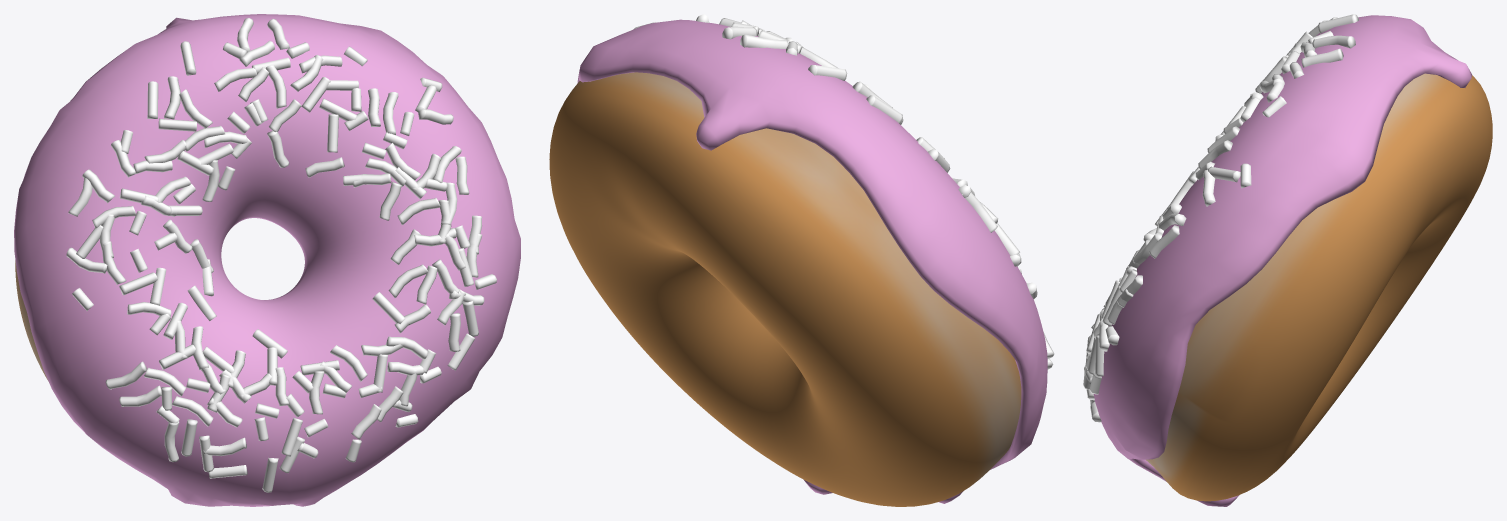
The model's file is donut_sprinkles.glb.
The picture shows the model from 3 angles, left to right: view 1: azimuth 30°, elevation 25°; view 2: azimuth 150°, elevation 25°; view 3: azimuth 270°, elevation 25°; orthographic projection. The views are drawn at different scales.
Parts seen in each view (by area): view 1: Icing; view 2: Donut, Icing; view 3: Donut, Icing.
Boxes of the visible parts, left/top/right/bottom form: Icing: left=14, top=14, right=520, bottom=506; Donut: left=549, top=72, right=1021, bottom=506; Icing: left=577, top=19, right=1047, bottom=503; Donut: left=1146, top=73, right=1492, bottom=501; Icing: left=1093, top=15, right=1471, bottom=506.
Size of the model in its own units: 0.0979 by 0.0953 by 0.0748.
3 materials, 1 textured.
